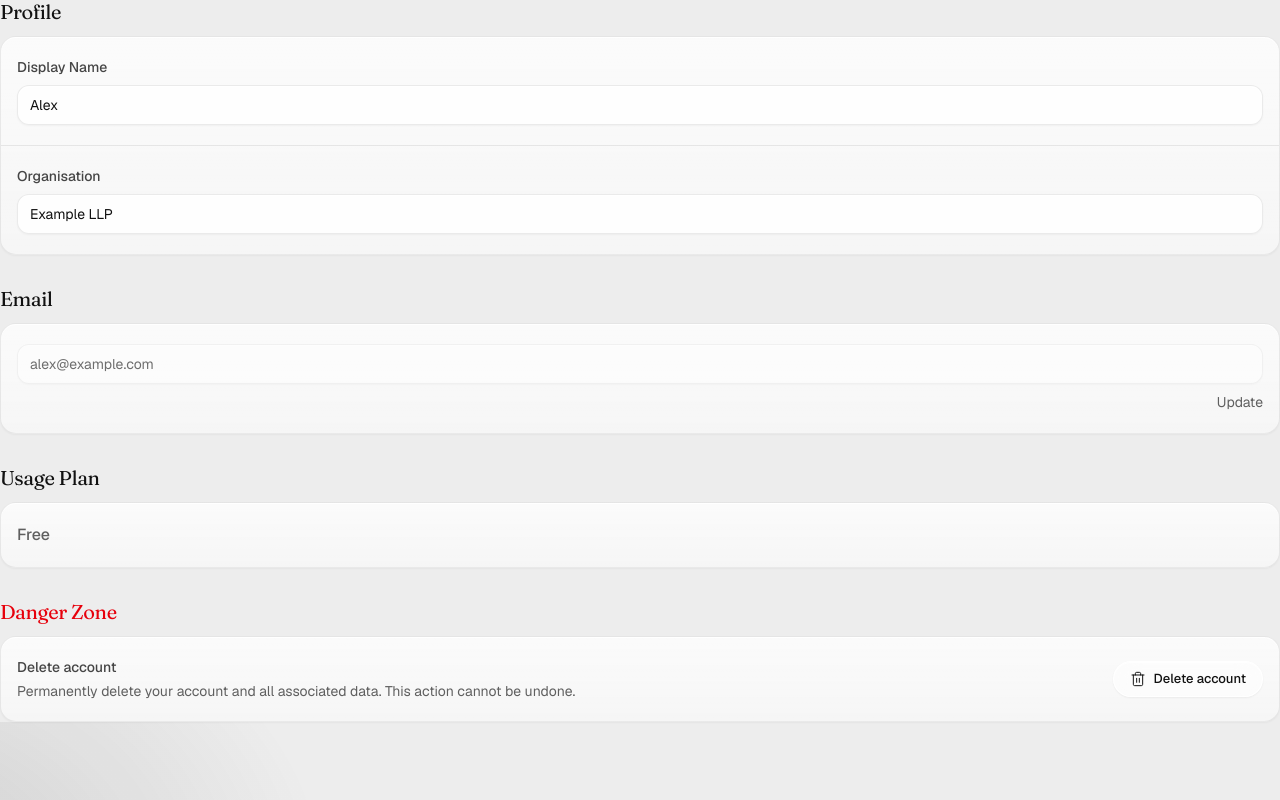
Test case: SettingsPage Google email changes › keeps the session and shows the reason when deletion is refused
Click the button named "Delete account".
click(1188, 679)  # box [1112,661,1263,697]
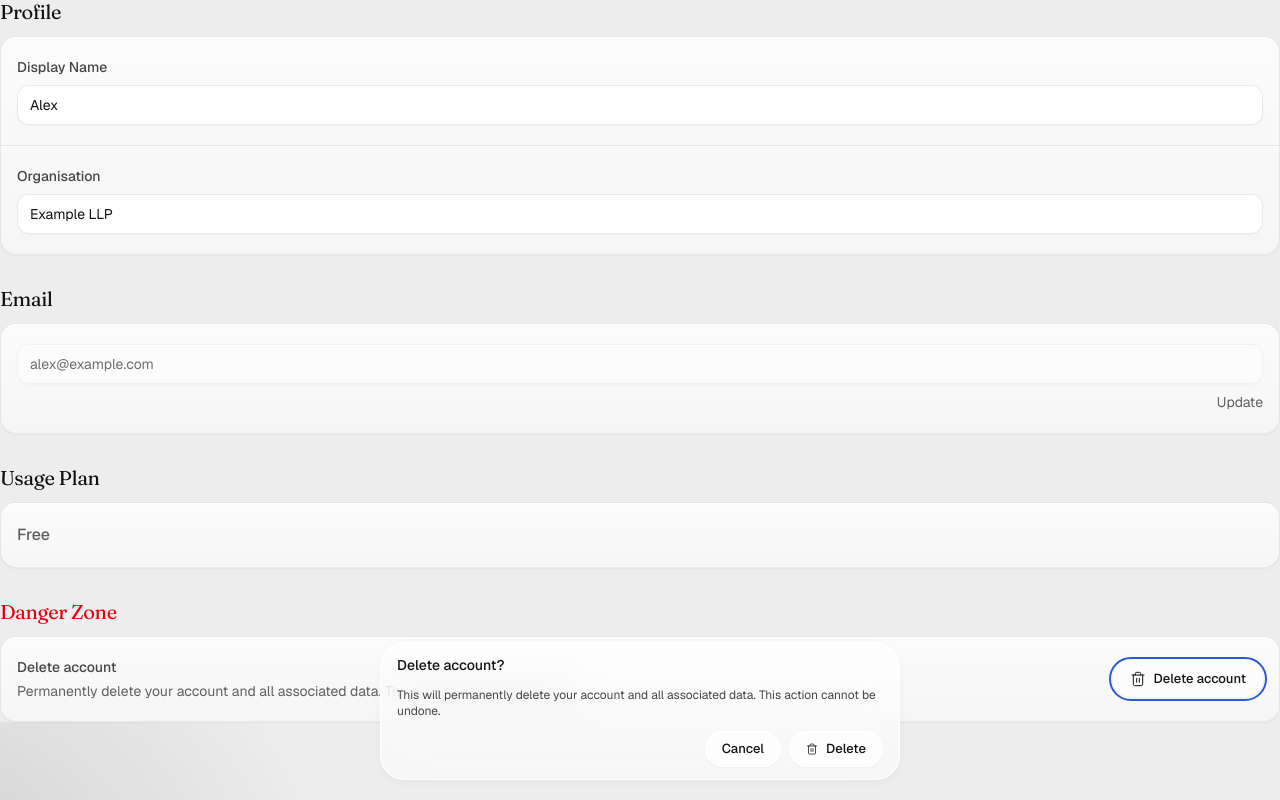
Click the 3rd button named "Delete".
click(836, 749)  # box [789,731,883,767]
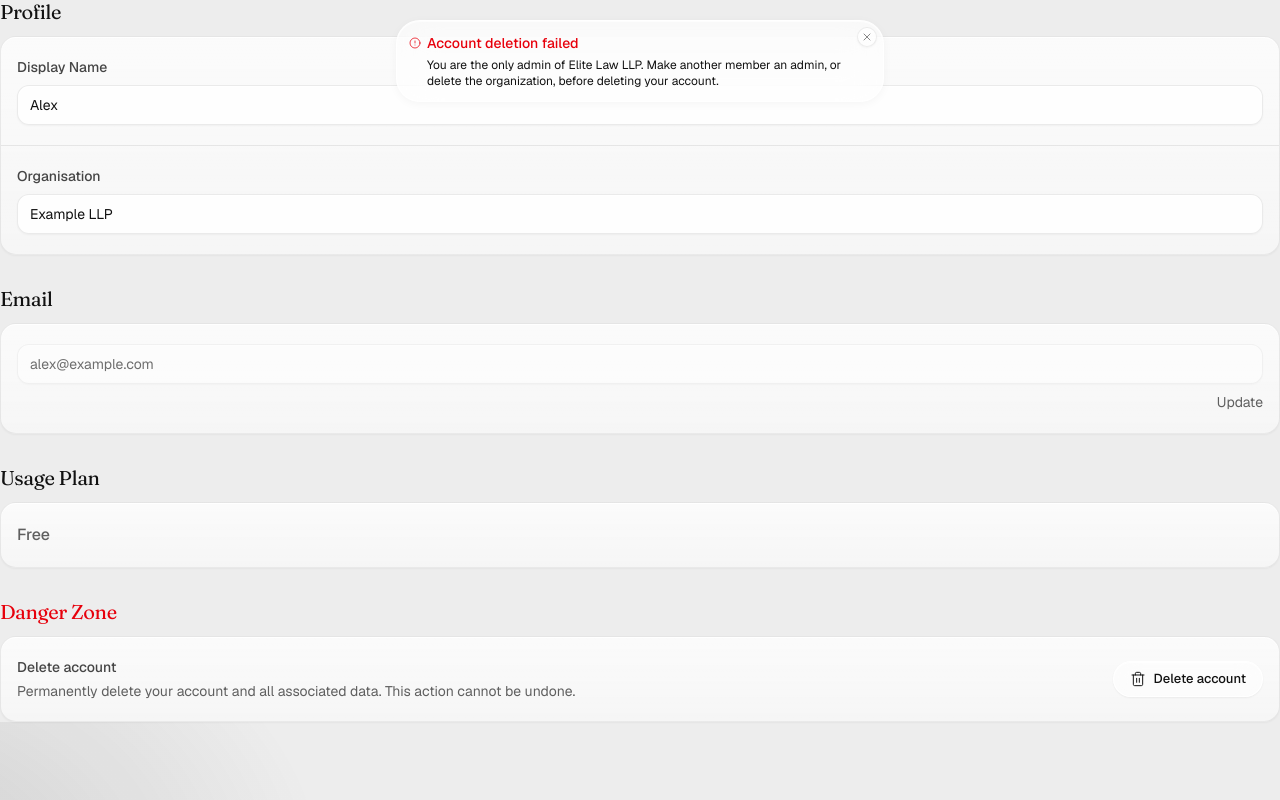
Now the text "You are the only admin of Elite Law LLP. Make another member an admin, or delete the organization, before deleting your " is shown, box [427,57,841,89]
Now the text "Account deletion failed" is shown, box [409,34,579,52]
